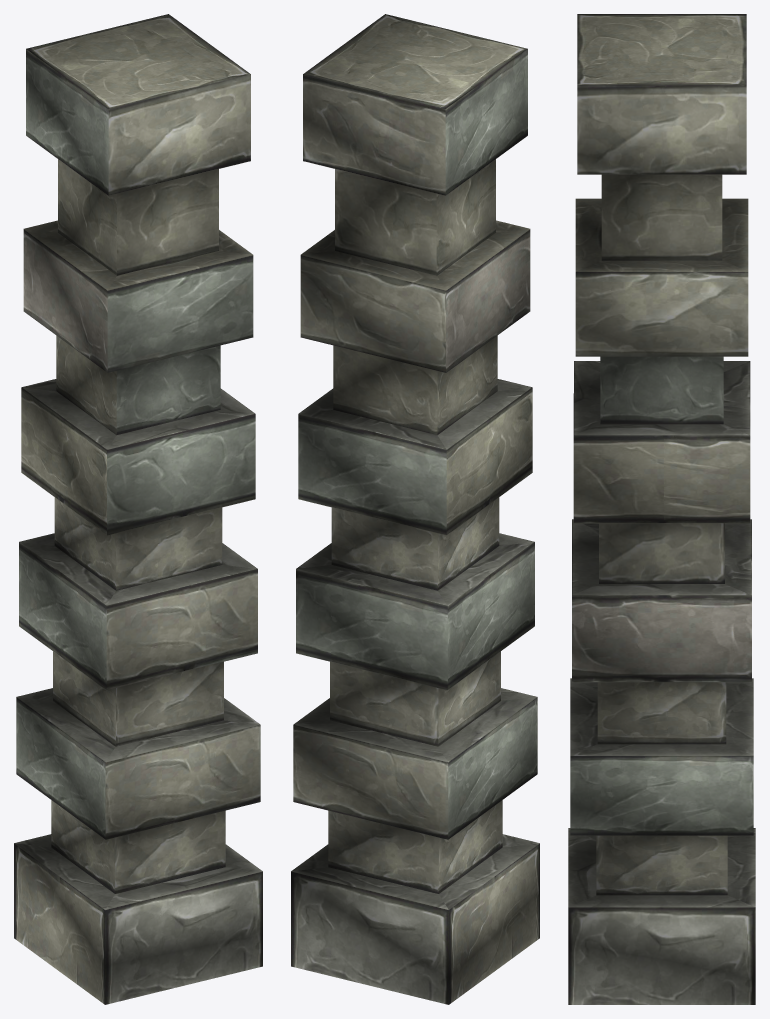
File: Piller4.fbx
3 renders of one model, left to right at view 1: azimuth 30°, elevation 25°; view 2: azimuth 150°, elevation 25°; view 3: azimuth 270°, elevation 25°, orthographic. The views are drawn at different scales.
Parts seen in each view (by area): view 1: Cube; view 2: Cube; view 3: Cube.
Part boxes in pixels (box(x1,y1,x2,y2)): Cube: box(14, 14, 262, 1004); Cube: box(291, 14, 539, 1004); Cube: box(568, 14, 755, 1004).
Bounding box in the file's own units: 0.9106 × 4.91 × 0.9106.
